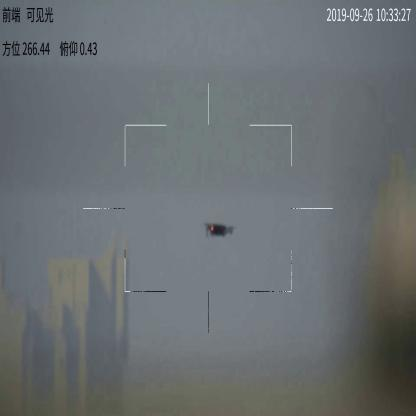uav: (200, 217, 240, 238)
